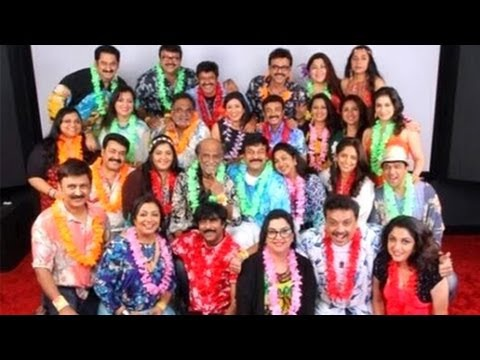bad: (261, 222, 297, 258), (321, 214, 357, 250), (381, 230, 417, 266), (57, 178, 93, 214)
